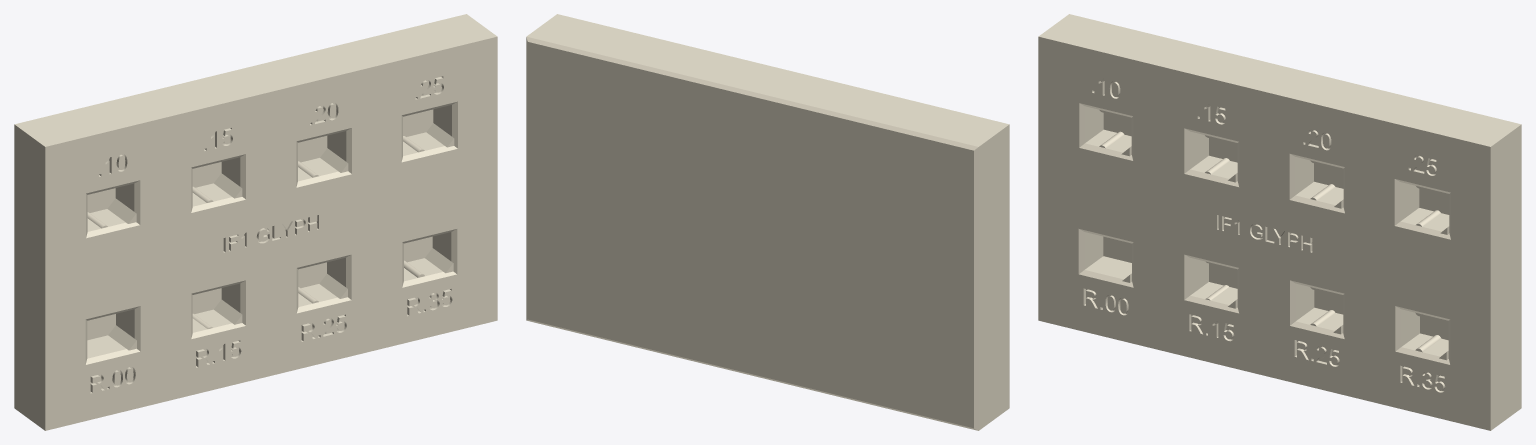
The model's file is coupon-glyph-slots@ivory.glb.
The picture shows the model from 3 angles, left to right: view 1: azimuth 30°, elevation 25°; view 2: azimuth 150°, elevation 25°; view 3: azimuth 330°, elevation 25°; orthographic projection.
Visible parts, largest first — view 1: geometry_0; view 2: geometry_0; view 3: geometry_0.
Part boxes in pixels (bbox=[...]): geometry_0: bbox=[14, 14, 497, 430]; geometry_0: bbox=[526, 14, 1009, 430]; geometry_0: bbox=[1038, 14, 1521, 430].
Bounding box in the file's own units: 60 × 36 × 7.5.
